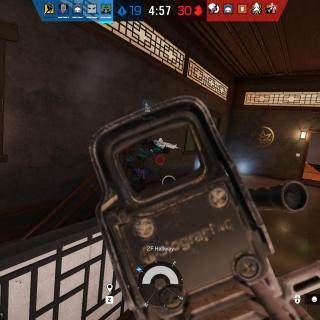Character: (122, 132, 175, 196)
Friend_label: (138, 102, 158, 121)
